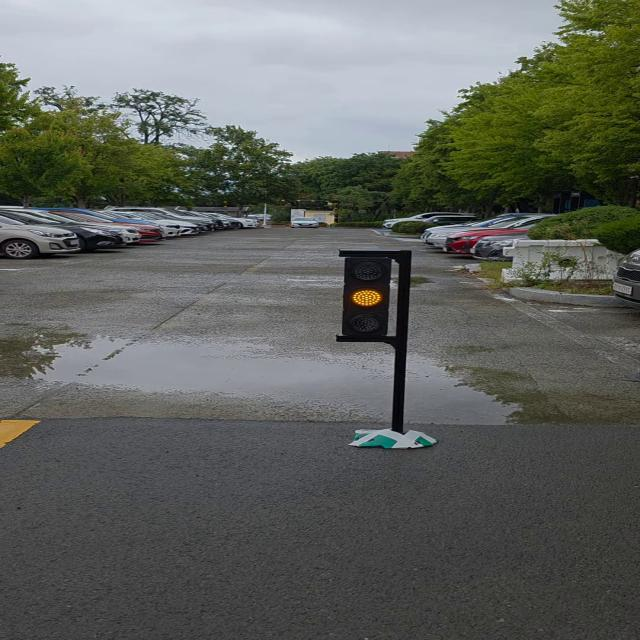yellow: (339, 254, 391, 342)
